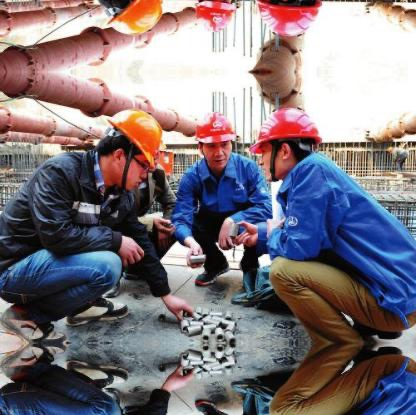Safety Helmet: (92, 104, 164, 200), (247, 103, 329, 182), (190, 109, 243, 172)
